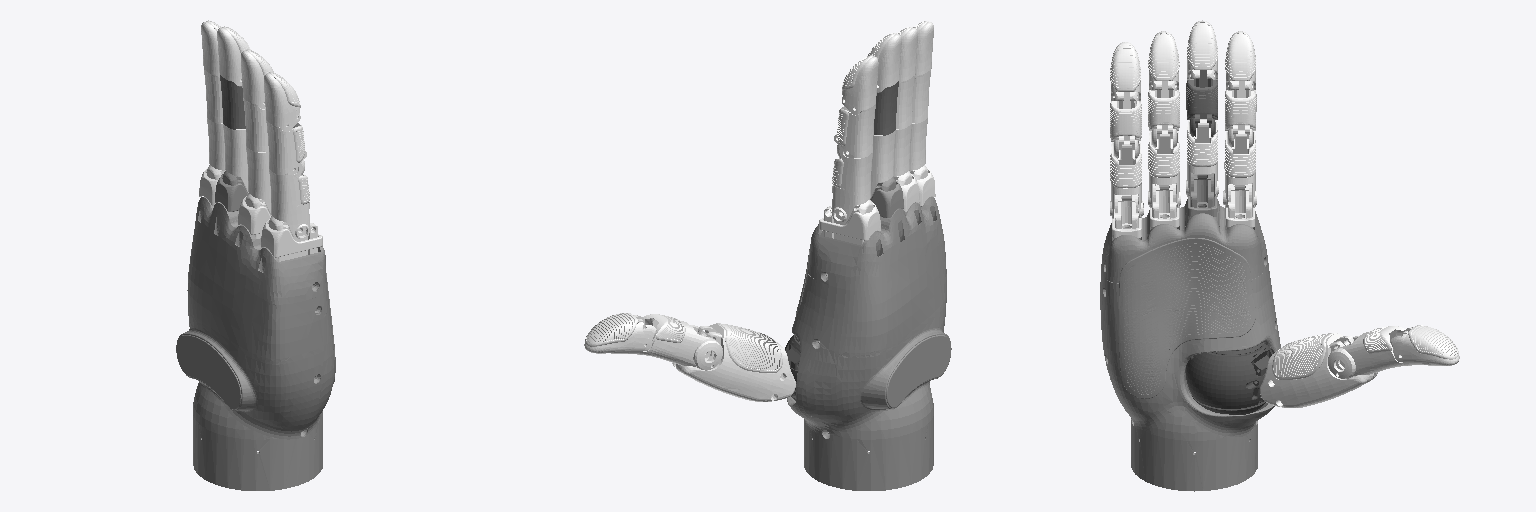
The robot description file, URDF, robot "linkerhand_l10v6_right":
<?xml version='1.0' encoding='utf-8'?>
<robot name="linkerhand_l10v6_right">
  <link name="hand_base_link">
    <inertial>
      <origin xyz="-0.00286347879502209 -0.00291920793459412 0.0777039265521249" rpy="0 0 0" />
      <mass value="0.34354881926881575" />
      <inertia ixx="0.0006178871752045478" ixy="-2.6576672120597222e-06" ixz="2.644117899209207e-06" iyy="0.0004391769273380083" iyz="-1.1762516839714137e-05" izz="0.00023652230989361893" />
    </inertial>
    <visual>
      <origin xyz="0 0 0" rpy="0 0 0" />
      <geometry>
        <mesh filename="meshes/hand_base_link.STL" />
      </geometry>
      <material name="">
        <color rgba="0.647058823529412 0.647058823529412 0.647058823529412 1" />
      </material>
    </visual>
    <collision>
      <origin xyz="0 0 0" rpy="0 0 0" />
      <geometry>
        <mesh filename="meshes/hand_base_link.STL" />
      </geometry>
    </collision>
  </link>
  <link name="thumb_metacarpals_base1">
    <inertial>
      <origin xyz="0.0219057134643327 9.49674838770457E-06 -0.00324810090530754" rpy="0 0 0" />
      <mass value="0.04425566779982592" />
      <inertia ixx="1.1852816733124185e-05" ixy="9.441105696879437e-09" ixz="-1.2040585542422053e-06" iyy="1.6784567894153087e-05" iyz="4.205957445384576e-09" izz="7.51362035067644e-06" />
    </inertial>
    <visual>
      <origin xyz="0 0 0" rpy="0 0 0" />
      <geometry>
        <mesh filename="meshes/thumb_metacarpals_base1.STL" />
      </geometry>
      <material name="">
        <color rgba="0.4 0.4 0.4 1" />
      </material>
    </visual>
    <collision>
      <origin xyz="0 0 0" rpy="0 0 0" />
      <geometry>
        <mesh filename="meshes/thumb_metacarpals_base1.STL" />
      </geometry>
    </collision>
  </link>
  <joint name="thumb_cmc_roll" type="revolute">
    <origin xyz="-0.016657 0.018426 0.057469" rpy="0 0 0" />
    <parent link="hand_base_link" />
    <child link="thumb_metacarpals_base1" />
    <axis xyz="1 0 0" />
    <limit lower="-0.785" upper="0.785" effort="12" velocity="2.6" />
  </joint>
  <link name="thumb_metacarpals_base2">
    <inertial>
      <origin xyz="-2.13696487971187E-05 0.000548476689927899 0.000535082566625092" rpy="0 0 0" />
      <mass value="0.06546850411934668" />
      <inertia ixx="1.307174350729106e-05" ixy="1.96771531370832e-09" ixz="-1.8601062187867814e-10" iyy="1.0016637448506202e-05" iyz="-2.501411970067449e-07" izz="7.4714107981233404e-06" />
    </inertial>
    <visual>
      <origin xyz="0 0 0" rpy="0 0 0" />
      <geometry>
        <mesh filename="meshes/thumb_metacarpals_base2.STL" />
      </geometry>
      <material name="">
        <color rgba="0.4 0.4 0.4 1" />
      </material>
    </visual>
    <collision>
      <origin xyz="0 0 0" rpy="0 0 0" />
      <geometry>
        <mesh filename="meshes/thumb_metacarpals_base2.STL" />
      </geometry>
    </collision>
  </link>
  <joint name="thumb_cmc_yaw" type="revolute">
    <origin xyz="0.029035 -1.086E-05 0.0020117" rpy="-1.5708 0 -0.56048" />
    <parent link="thumb_metacarpals_base1" />
    <child link="thumb_metacarpals_base2" />
    <axis xyz="0 1 0" />
    <limit lower="0" upper="1.57" effort="12" velocity="2.6" />
  </joint>
  <link name="thumb_metacarpals">
    <inertial>
      <origin xyz="0.00175933658923561 -5.34357170904262E-05 0.0251801046995344" rpy="0 0 0" />
      <mass value="0.0681681057244462" />
      <inertia ixx="1.1428496819233036e-05" ixy="-7.105704903710669e-10" ixz="-3.4099333197868415e-07" iyy="1.5441242890870885e-05" iyz="-1.890889946878245e-09" izz="6.212818723727155e-06" />
    </inertial>
    <visual>
      <origin xyz="0 0 0" rpy="0 0 0" />
      <geometry>
        <mesh filename="meshes/thumb_metacarpals.STL" />
      </geometry>
      <material name="">
        <color rgba="1 1 1 1" />
      </material>
    </visual>
    <collision>
      <origin xyz="0 0 0" rpy="0 0 0" />
      <geometry>
        <mesh filename="meshes/thumb_metacarpals.STL" />
      </geometry>
    </collision>
  </link>
  <joint name="thumb_cmc_pitch" type="revolute">
    <origin xyz="5.9553E-05 0.0034929 0.028731" rpy="0 0.46329 -1.5708" />
    <parent link="thumb_metacarpals_base2" />
    <child link="thumb_metacarpals" />
    <axis xyz="0 1 0" />
    <limit lower="0" upper="0.5286" effort="12" velocity="2.6" />

  </joint>
  <link name="thumb_proximal">
    <inertial>
      <origin xyz="-0.000134526311847863 1.60765957719381E-05 0.01556576964587" rpy="0 0 0" />
      <mass value="0.020057039570174552" />
      <inertia ixx="3.5530531107881776e-06" ixy="6.351417949453592e-11" ixz="-4.285819273526554e-07" iyy="3.161423474876087e-06" iyz="-2.0862801826831755e-10" izz="1.5714863583246567e-06" />
    </inertial>
    <visual>
      <origin xyz="0 0 0" rpy="0 0 0" />
      <geometry>
        <mesh filename="meshes/thumb_proximal.STL" />
      </geometry>
      <material name="">
        <color rgba="1 1 1 1" />
      </material>
    </visual>
    <collision>
      <origin xyz="0 0 0" rpy="0 0 0" />
      <geometry>
        <mesh filename="meshes/thumb_proximal.STL" />
      </geometry>
    </collision>
  </link>
  <joint name="thumb_mcp" type="revolute">
    <origin xyz="0.0049422 0 0.050268" rpy="0 0 0" />
    <parent link="thumb_metacarpals" />
    <child link="thumb_proximal" />
    <axis xyz="0 1 0" />
    <limit lower="0" upper="1.0467" effort="12" velocity="2.6" />
    <mimic joint="thumb_cmc_pitch" multiplier="2.24" offset="0" />
  </joint>
  <link name="thumb_distal">
    <inertial>
      <origin xyz="-0.00128308160618328 1.75396134370794E-06 0.0121298685711615" rpy="0 0 0" />
      <mass value="0.023012842812374323" />
      <inertia ixx="1.3631533246000513e-06" ixy="8.366071439323084e-10" ixz="-3.9443488272470783e-07" iyy="1.4146932466147507e-06" iyz="2.739716207650345e-10" izz="1.0760890638017126e-06" />
    </inertial>
    <visual>
      <origin xyz="0 0 0" rpy="0 0 0" />
      <geometry>
        <mesh filename="meshes/thumb_distal.STL" />
      </geometry>
      <material name="">
        <color rgba="1 1 1 1" />
      </material>
    </visual>
    <collision>
      <origin xyz="0 0 0" rpy="0 0 0" />
      <geometry>
        <mesh filename="meshes/thumb_distal.STL" />
      </geometry>
    </collision>
  </link>
  <joint name="thumb_ip" type="revolute">
    <origin xyz="-0.0040391 0 0.036444" rpy="0 0 0" />
    <parent link="thumb_proximal" />
    <child link="thumb_distal" />
    <axis xyz="0 1 0" />
    <limit lower="0" upper="1.256" effort="12" velocity="2.6" />
    <mimic joint="thumb_cmc_pitch" multiplier="2.38" offset="0" />
  </joint>
  <link name="index_metacarpals">
    <inertial>
      <origin xyz="-0.00188108592137497 -1.42567965351467E-05 0.0105056794609021" rpy="0 0 0" />
      <mass value="0.016614213530707737" />
      <inertia ixx="8.249273957455641e-07" ixy="-1.815364018501298e-09" ixz="-2.885560539105427e-08" iyy="1.3119372662724172e-06" iyz="-2.000580101959231e-09" izz="1.176668457306931e-06" />
    </inertial>
    <visual>
      <origin xyz="0 0 0" rpy="0 0 0" />
      <geometry>
        <mesh filename="meshes/index_metacarpals.STL" />
      </geometry>
      <material name="">
        <color rgba="1 1 1 1" />
      </material>
    </visual>
    <collision>
      <origin xyz="0 0 0" rpy="0 0 0" />
      <geometry>
        <mesh filename="meshes/index_metacarpals.STL" />
      </geometry>
    </collision>
  </link>
  <joint name="index_mcp_roll" type="revolute">
    <origin xyz="-0.0021525 0.02293 0.12973" rpy="-0.0017399 0 0" />
    <parent link="hand_base_link" />
    <child link="index_metacarpals" />
    <axis xyz="1 0 0" />
    <limit lower="-0.2268" upper="0" effort="12" velocity="2.6" />
  </joint>
  <link name="index_proximal">
    <inertial>
      <origin xyz="-0.00325182727688448 5.73208143654935E-05 0.019519586479303" rpy="0 0 0" />
      <mass value="0.01170870731662533" />
      <inertia ixx="1.0389451930721624e-06" ixy="1.5702800486767717e-09" ixz="-1.5305796221391668e-07" iyy="1.0038247617527577e-06" iyz="4.9216287560005635e-09" izz="5.499416404538266e-07" />
    </inertial>
    <visual>
      <origin xyz="0 0 0" rpy="0 0 0" />
      <geometry>
        <mesh filename="meshes/index_proximal.STL" />
      </geometry>
      <material name="">
        <color rgba="1 1 1 1" />
      </material>
    </visual>
    <collision>
      <origin xyz="0 0 0" rpy="0 0 0" />
      <geometry>
        <mesh filename="meshes/index_proximal.STL" />
      </geometry>
    </collision>
  </link>
  <joint name="index_mcp_pitch" type="revolute">
    <origin xyz="0.0010297 0 0.017575" rpy="0 0 0" />
    <parent link="index_metacarpals" />
    <child link="index_proximal" />
    <axis xyz="0 1 0" />
    <limit lower="0" upper="1.325" effort="12" velocity="2.6" />
  </joint>
  <link name="index_middle">
    <inertial>
      <origin xyz="-0.00220167944983096 -0.000343531861158337 0.0115244059284959" rpy="0 0 0" />
      <mass value="0.012511711108351411" />
      <inertia ixx="1.09403184194524e-06" ixy="-7.343580587040652e-09" ixz="-1.713550177471346e-07" iyy="9.995027922615628e-07" iyz="1.814980893210536e-08" izz="5.116399235904653e-07" />
    </inertial>
    <visual>
      <origin xyz="0 0 0" rpy="0 0 0" />
      <geometry>
        <mesh filename="meshes/index_middle.STL" />
      </geometry>
      <material name="">
        <color rgba="1 1 1 1" />
      </material>
    </visual>
    <collision>
      <origin xyz="0 0 0" rpy="0 0 0" />
      <geometry>
        <mesh filename="meshes/index_middle.STL" />
      </geometry>
    </collision>
  </link>
  <joint name="index_pip" type="revolute">
    <origin xyz="-0.0033727 0 0.03351" rpy="0 0 0" />
    <parent link="index_proximal" />
    <child link="index_middle" />
    <axis xyz="0 1 0" />
    <limit lower="0" upper="1.57" effort="12" velocity="2.6" />
    <mimic joint="index_mcp_pitch" multiplier="1.18" offset="0" />
  </joint>
  <link name="index_distal">
    <inertial>
      <origin xyz="0.000205019632210583 -5.00613995397879E-05 0.011664419717934" rpy="0 0 0" />
      <mass value="0.014858278875807667" />
      <inertia ixx="8.183645219801856e-07" ixy="-1.721484162975552e-09" ixz="-1.6604218012401215e-07" iyy="7.953022338283046e-07" iyz="1.159195286292745e-08" izz="4.619653286401574e-07" />
    </inertial>
    <visual>
      <origin xyz="0 0 0" rpy="0 0 0" />
      <geometry>
        <mesh filename="meshes/index_distal.STL" />
      </geometry>
      <material name="">
        <color rgba="1 1 1 1" />
      </material>
    </visual>
    <collision>
      <origin xyz="0 0 0" rpy="0 0 0" />
      <geometry>
        <mesh filename="meshes/index_distal.STL" />
      </geometry>
    </collision>
  </link>
  <joint name="index_dip" type="revolute">
    <origin xyz="-0.0050438 0 0.025752" rpy="0 0 0" />
    <parent link="index_middle" />
    <child link="index_distal" />
    <axis xyz="0 1 0" />
    <limit lower="0" upper="1" effort="12" velocity="2.6" />
    <mimic joint="index_mcp_pitch" multiplier="0.7493" offset="0" />
  </joint>
  <link name="middle_proximal">
    <inertial>
      <origin xyz="-0.00325183241327447 5.73145378679994E-05 0.0195196140929391" rpy="0 0 0" />
      <mass value="0.011708689871923124" />
      <inertia ixx="1.038939259376375e-06" ixy="1.5700442643739276e-09" ixz="-1.5305711009694564e-07" iyy="1.003819311570647e-06" iyz="4.923150795055104e-09" izz="5.499413204862797e-07" />
    </inertial>
    <visual>
      <origin xyz="0 0 0" rpy="0 0 0" />
      <geometry>
        <mesh filename="meshes/middle_proximal.STL" />
      </geometry>
      <material name="">
        <color rgba="1 1 1 1" />
      </material>
    </visual>
    <collision>
      <origin xyz="0 0 0" rpy="0 0 0" />
      <geometry>
        <mesh filename="meshes/middle_proximal.STL" />
      </geometry>
    </collision>
  </link>
  <joint name="middle_mcp_pitch" type="revolute">
    <origin xyz="-0.0031229 0.0039297 0.1523" rpy="0 0 0" />
    <parent link="hand_base_link" />
    <child link="middle_proximal" />
    <axis xyz="0 1 0" />
    <limit lower="0" upper="1.325" effort="12" velocity="2.6" />
  </joint>
  <link name="middle_middle">
    <inertial>
      <origin xyz="-0.00220167959658282 -0.000343532177140834 0.0115244055184866" rpy="0 0 0" />
      <mass value="0.012511710480750374" />
      <inertia ixx="1.0940318011177228e-06" ixy="-7.3435689297810425e-09" ixz="-1.7135500823729585e-07" iyy="9.99502768753843e-07" iyz="1.8149788846409702e-08" izz="5.116398953542118e-07" />
    </inertial>
    <visual>
      <origin xyz="0 0 0" rpy="0 0 0" />
      <geometry>
        <mesh filename="meshes/middle_middle.STL" />
      </geometry>
      <material name="">
        <color rgba="0.490196078431373 0.490196078431373 0.490196078431373 1" />
      </material>
    </visual>
    <collision>
      <origin xyz="0 0 0" rpy="0 0 0" />
      <geometry>
        <mesh filename="meshes/middle_middle.STL" />
      </geometry>
    </collision>
  </link>
  <joint name="middle_pip" type="revolute">
    <origin xyz="-0.0033727 0 0.03351" rpy="0 0 0" />
    <parent link="middle_proximal" />
    <child link="middle_middle" />
    <axis xyz="0 1 0" />
    <limit lower="0" upper="1.57" effort="12" velocity="2.6" />
    <mimic joint="middle_mcp_pitch" multiplier="1.18" offset="0" />
  </joint>
  <link name="middle_distal">
    <inertial>
      <origin xyz="0.000205019955498292 -5.00610236550576E-05 0.0116644182424609" rpy="0 0 0" />
      <mass value="0.014858277037854526" />
      <inertia ixx="8.183643560372697e-07" ixy="-1.7215208392080729e-09" ixz="-1.6604222237136692e-07" iyy="7.953020717317786e-07" iyz="1.1592021008249165e-08" izz="4.6196533701401466e-07" />
    </inertial>
    <visual>
      <origin xyz="0 0 0" rpy="0 0 0" />
      <geometry>
        <mesh filename="meshes/middle_distal.STL" />
      </geometry>
      <material name="">
        <color rgba="1 1 1 1" />
      </material>
    </visual>
    <collision>
      <origin xyz="0 0 0" rpy="0 0 0" />
      <geometry>
        <mesh filename="meshes/middle_distal.STL" />
      </geometry>
    </collision>
  </link>
  <joint name="middle_dip" type="revolute">
    <origin xyz="-0.0050438 0 0.025752" rpy="0 0 0" />
    <parent link="middle_middle" />
    <child link="middle_distal" />
    <axis xyz="0 1 0" />
    <limit lower="0" upper="1" effort="12" velocity="2.6" />
    <mimic joint="middle_mcp_pitch" multiplier="0.7493" offset="0" />
  </joint>
  <link name="ring_metacarpals">
    <inertial>
      <origin xyz="-0.00187924037259886 -1.42570579967985E-05 0.0105056794808792" rpy="0 0 0" />
      <mass value="0.016614214319408793" />
      <inertia ixx="8.249274470022796e-07" ixy="-1.8153806663760922e-09" ixz="-2.8855621081547444e-08" iyy="1.3119374075338137e-06" iyz="-2.0006344439242634e-09" izz="1.1766685889930342e-06" />
    </inertial>
    <visual>
      <origin xyz="0 0 0" rpy="0 0 0" />
      <geometry>
        <mesh filename="meshes/ring_metacarpals.STL" />
      </geometry>
      <material name="">
        <color rgba="1 1 1 1" />
      </material>
    </visual>
    <collision>
      <origin xyz="0 0 0" rpy="0 0 0" />
      <geometry>
        <mesh filename="meshes/ring_metacarpals.STL" />
      </geometry>
    </collision>
  </link>
  <joint name="ring_mcp_roll" type="revolute">
    <origin xyz="-0.0021544 -0.01507 0.12973" rpy="0.004655 0 0" />
    <parent link="hand_base_link" />
    <child link="ring_metacarpals" />
    <axis xyz="1 0 0" />
    <limit lower="0" upper="0.2093" effort="12" velocity="2.6" />
  </joint>
  <link name="ring_proximal">
    <inertial>
      <origin xyz="-0.00325184610536779 5.72981834254804E-05 0.0195196887550617" rpy="0 0 0" />
      <mass value="0.011708644033664218" />
      <inertia ixx="1.038923129488147e-06" ixy="1.5694398778912896e-09" ixz="-1.530547828532344e-07" iyy="1.003804420601422e-06" iyz="4.927247600437325e-09" izz="5.499404607173837e-07" />
    </inertial>
    <visual>
      <origin xyz="0 0 0" rpy="0 0 0" />
      <geometry>
        <mesh filename="meshes/ring_proximal.STL" />
      </geometry>
      <material name="">
        <color rgba="1 1 1 1" />
      </material>
    </visual>
    <collision>
      <origin xyz="0 0 0" rpy="0 0 0" />
      <geometry>
        <mesh filename="meshes/ring_proximal.STL" />
      </geometry>
    </collision>
  </link>
  <joint name="ring_mcp_pitch" type="revolute">
    <origin xyz="0.0010315 0 0.017575" rpy="0 0 0" />
    <parent link="ring_metacarpals" />
    <child link="ring_proximal" />
    <axis xyz="0 1 0" />
    <limit lower="0" upper="1.325" effort="12" velocity="2.6" />
  </joint>
  <link name="ring_middle">
    <inertial>
      <origin xyz="-0.00220167991130209 -0.000343532588890416 0.0115244046530842" rpy="0 0 0" />
      <mass value="0.012511709056521332" />
      <inertia ixx="1.094031710078761e-06" ixy="-7.34355479582569e-09" ixz="-1.713549882715768e-07" iyy="9.995027132585127e-07" iyz="1.814976770984882e-08" izz="5.11639832103072e-07" />
    </inertial>
    <visual>
      <origin xyz="0 0 0" rpy="0 0 0" />
      <geometry>
        <mesh filename="meshes/ring_middle.STL" />
      </geometry>
      <material name="">
        <color rgba="1 1 1 1" />
      </material>
    </visual>
    <collision>
      <origin xyz="0 0 0" rpy="0 0 0" />
      <geometry>
        <mesh filename="meshes/ring_middle.STL" />
      </geometry>
    </collision>
  </link>
  <joint name="ring_pip" type="revolute">
    <origin xyz="-0.0033727 0 0.03351" rpy="0 0 0" />
    <parent link="ring_proximal" />
    <child link="ring_middle" />
    <axis xyz="0 1 0" />
    <limit lower="0" upper="1.57" effort="12" velocity="2.6" />
    <mimic joint="ring_mcp_pitch" multiplier="1.18" offset="0" />
  </joint>
  <link name="ring_distal">
    <inertial>
      <origin xyz="0.000205021714718284 -5.00576330846325E-05 0.0116644156669932" rpy="0 0 0" />
      <mass value="0.014858274891747264" />
      <inertia ixx="8.183641976715379e-07" ixy="-1.7217353245923224e-09" ixz="-1.6604208827509671e-07" iyy="7.95301653353257e-07" iyz="1.1592408668350541e-08" izz="4.6196513029322874e-07" />
    </inertial>
    <visual>
      <origin xyz="0 0 0" rpy="0 0 0" />
      <geometry>
        <mesh filename="meshes/ring_distal.STL" />
      </geometry>
      <material name="">
        <color rgba="1 1 1 1" />
      </material>
    </visual>
    <collision>
      <origin xyz="0 0 0" rpy="0 0 0" />
      <geometry>
        <mesh filename="meshes/ring_distal.STL" />
      </geometry>
    </collision>
  </link>
  <joint name="ring_dip" type="revolute">
    <origin xyz="-0.0050438 0 0.025752" rpy="0 0 0" />
    <parent link="ring_middle" />
    <child link="ring_distal" />
    <axis xyz="0 1 0" />
    <limit lower="0" upper="1" effort="12" velocity="2.6" />
    <mimic joint="ring_mcp_pitch" multiplier="0.7493" offset="0" />
  </joint>
  <link name="pinky_metacarpals">
    <inertial>
      <origin xyz="-0.00187924024653063 -1.42571654797655E-05 0.0105056794696284" rpy="0 0 0" />
      <mass value="0.01661421467628334" />
      <inertia ixx="8.249274689039924e-07" ixy="-1.8153921520978174e-09" ixz="-2.8855628111597604e-08" iyy="1.311937481623849e-06" iyz="-2.0006592557747135e-09" izz="1.1766686591478873e-06" />
    </inertial>
    <visual>
      <origin xyz="0 0 0" rpy="0 0 0" />
      <geometry>
        <mesh filename="meshes/pinky_metacarpals.STL" />
      </geometry>
      <material name="">
        <color rgba="1 1 1 1" />
      </material>
    </visual>
    <collision>
      <origin xyz="0 0 0" rpy="0 0 0" />
      <geometry>
        <mesh filename="meshes/pinky_metacarpals.STL" />
      </geometry>
    </collision>
  </link>
  <joint name="pinky_mcp_roll" type="revolute">
    <origin xyz="-0.00015438 -0.03407 0.12473" rpy="0.0073744 0 0" />
    <parent link="hand_base_link" />
    <child link="pinky_metacarpals" />
    <axis xyz="1 0 0" />
    <limit lower="0" upper="0.3663" effort="12" velocity="2.6" />
  </joint>
  <link name="pinky_proximal">
    <inertial>
      <origin xyz="-0.00324745962886003 6.97057679159424E-05 0.0194696777265621" rpy="0 0 0" />
      <mass value="0.011736005978942131" />
      <inertia ixx="1.0519416224053093e-06" ixy="1.956915326417445e-09" ixz="-1.545816068113313e-07" iyy="1.0161859331803621e-06" iyz="1.6697634209632857e-09" izz="5.509476726673267e-07" />
    </inertial>
    <visual>
      <origin xyz="0 0 0" rpy="0 0 0" />
      <geometry>
        <mesh filename="meshes/pinky_proximal.STL" />
      </geometry>
      <material name="">
        <color rgba="1 1 1 1" />
      </material>
    </visual>
    <collision>
      <origin xyz="0 0 0" rpy="0 0 0" />
      <geometry>
        <mesh filename="meshes/pinky_proximal.STL" />
      </geometry>
    </collision>
  </link>
  <joint name="pinky_mcp_pitch" type="revolute">
    <origin xyz="0.0010315 0 0.017575" rpy="0 0 0" />
    <parent link="pinky_metacarpals" />
    <child link="pinky_proximal" />
    <axis xyz="0 1 0" />
    <limit lower="0" upper="1.325" effort="12" velocity="2.6" />
  </joint>
  <link name="pinky_middle">
    <inertial>
      <origin xyz="-0.00220167992020897 -0.000343532603299626 0.0115244046300094" rpy="0 0 0" />
      <mass value="0.01251170901822359" />
      <inertia ixx="1.0940317076393356e-06" ixy="-7.343554263542592e-09" ixz="-1.7135498768773633e-07" iyy="9.995027118433804e-07" iyz="1.814976697428645e-08" izz="5.116398304222848e-07" />
    </inertial>
    <visual>
      <origin xyz="0 0 0" rpy="0 0 0" />
      <geometry>
        <mesh filename="meshes/pinky_middle.STL" />
      </geometry>
      <material name="">
        <color rgba="1 1 1 1" />
      </material>
    </visual>
    <collision>
      <origin xyz="0 0 0" rpy="0 0 0" />
      <geometry>
        <mesh filename="meshes/pinky_middle.STL" />
      </geometry>
    </collision>
  </link>
  <joint name="pinky_pip" type="revolute">
    <origin xyz="-0.0033727 0 0.03351" rpy="0 0 0" />
    <parent link="pinky_proximal" />
    <child link="pinky_middle" />
    <axis xyz="0 1 0" />
    <limit lower="0" upper="1.57" effort="12" velocity="2.6" />
    <mimic joint="pinky_mcp_pitch" multiplier="1.18" offset="0" />
  </joint>
  <link name="pinky_distal">
    <inertial>
      <origin xyz="0.000205022549105534 -5.0056002684748E-05 0.0116644157108276" rpy="0 0 0" />
      <mass value="0.014858275630682649" />
      <inertia ixx="8.183641423891162e-07" ixy="-1.721808186645477e-09" ixz="-1.660419484057267e-07" iyy="7.953016309158144e-07" iyz="1.1592588912071308e-08" izz="4.6196518084538117e-07" />
    </inertial>
    <visual>
      <origin xyz="0 0 0" rpy="0 0 0" />
      <geometry>
        <mesh filename="meshes/pinky_distal.STL" />
      </geometry>
      <material name="">
        <color rgba="1 1 1 1" />
      </material>
    </visual>
    <collision>
      <origin xyz="0 0 0" rpy="0 0 0" />
      <geometry>
        <mesh filename="meshes/pinky_distal.STL" />
      </geometry>
    </collision>
  </link>
  <joint name="pinky_dip" type="revolute">
    <origin xyz="-0.0050438 0 0.025752" rpy="0 0 0" />
    <parent link="pinky_middle" />
    <child link="pinky_distal" />
    <axis xyz="0 1 0" />
    <limit lower="0" upper="1" effort="12" velocity="2.6" />
    <mimic joint="pinky_mcp_pitch" multiplier="0.7493" offset="0" />
  </joint>
</robot>

--- Render facts (derived) ---
3 views of the same robot in one strip: view 1: azimuth 30°, elevation 25°; view 2: azimuth 150°, elevation 25°; view 3: azimuth 270°, elevation 25° (orthographic).
Model linkerhand_l10v6_right with 21 links and 20 joints (20 revolute), rooted at hand_base_link, posed all joints at 0.
Links seen in each view (by area): view 1: hand_base_link, pinky_proximal, pinky_middle, pinky_metacarpals, pinky_distal, middle_distal, ring_distal, middle_proximal, ring_proximal, middle_middle, ring_middle, ring_metacarpals (+4 smaller); view 2: hand_base_link, thumb_metacarpals, thumb_proximal, thumb_distal, index_proximal, index_middle, index_metacarpals, index_distal, middle_distal, middle_proximal, middle_middle, ring_distal (+7 smaller); view 3: hand_base_link, thumb_metacarpals, thumb_metacarpals_base2, thumb_proximal, thumb_distal, index_proximal, pinky_proximal, ring_proximal, middle_proximal, middle_distal, ring_distal, index_distal (+9 smaller).
Link boxes in pixels (<box>): hand_base_link: <box>176,171,335,490</box>; pinky_proximal: <box>269,169,309,240</box>; pinky_middle: <box>266,120,306,174</box>; pinky_metacarpals: <box>261,216,322,261</box>; pinky_distal: <box>264,72,300,131</box>; middle_distal: <box>217,26,250,85</box>; ring_distal: <box>241,49,273,108</box>; middle_proximal: <box>223,124,248,192</box>; ring_proximal: <box>246,146,271,215</box>; middle_middle: <box>220,75,245,129</box>; ring_middle: <box>243,98,268,151</box>; ring_metacarpals: <box>238,194,270,238</box>; hand_base_link: <box>787,177,951,490</box>; thumb_metacarpals: <box>672,323,795,401</box>; thumb_proximal: <box>637,314,722,370</box>; thumb_distal: <box>584,313,656,353</box>; index_proximal: <box>832,153,872,223</box>; index_middle: <box>834,104,875,157</box>; index_metacarpals: <box>819,200,880,244</box>; index_distal: <box>842,55,878,114</box>; middle_distal: <box>868,33,901,92</box>; middle_proximal: <box>870,130,895,198</box>; middle_middle: <box>874,81,898,135</box>; ring_distal: <box>897,27,917,83</box>; hand_base_link: <box>1100,173,1280,491</box>; thumb_metacarpals: <box>1260,333,1377,407</box>; thumb_metacarpals_base2: <box>1186,344,1272,408</box>; thumb_proximal: <box>1328,326,1407,378</box>; thumb_distal: <box>1391,325,1459,365</box>; index_proximal: <box>1223,130,1256,207</box>; pinky_proximal: <box>1110,140,1143,218</box>; ring_proximal: <box>1148,130,1180,207</box>; middle_proximal: <box>1186,119,1218,196</box>; middle_distal: <box>1187,20,1217,79</box>; ring_distal: <box>1148,31,1179,90</box>; index_distal: <box>1225,31,1255,90</box>.
Size in the robot's own frame: 0.119 by 0.1806 by 0.238 metres.
21 mesh visuals loaded from 21 distinct referenced files (21 binary STL).
